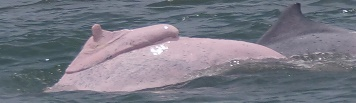fin: (47, 21, 290, 89)
